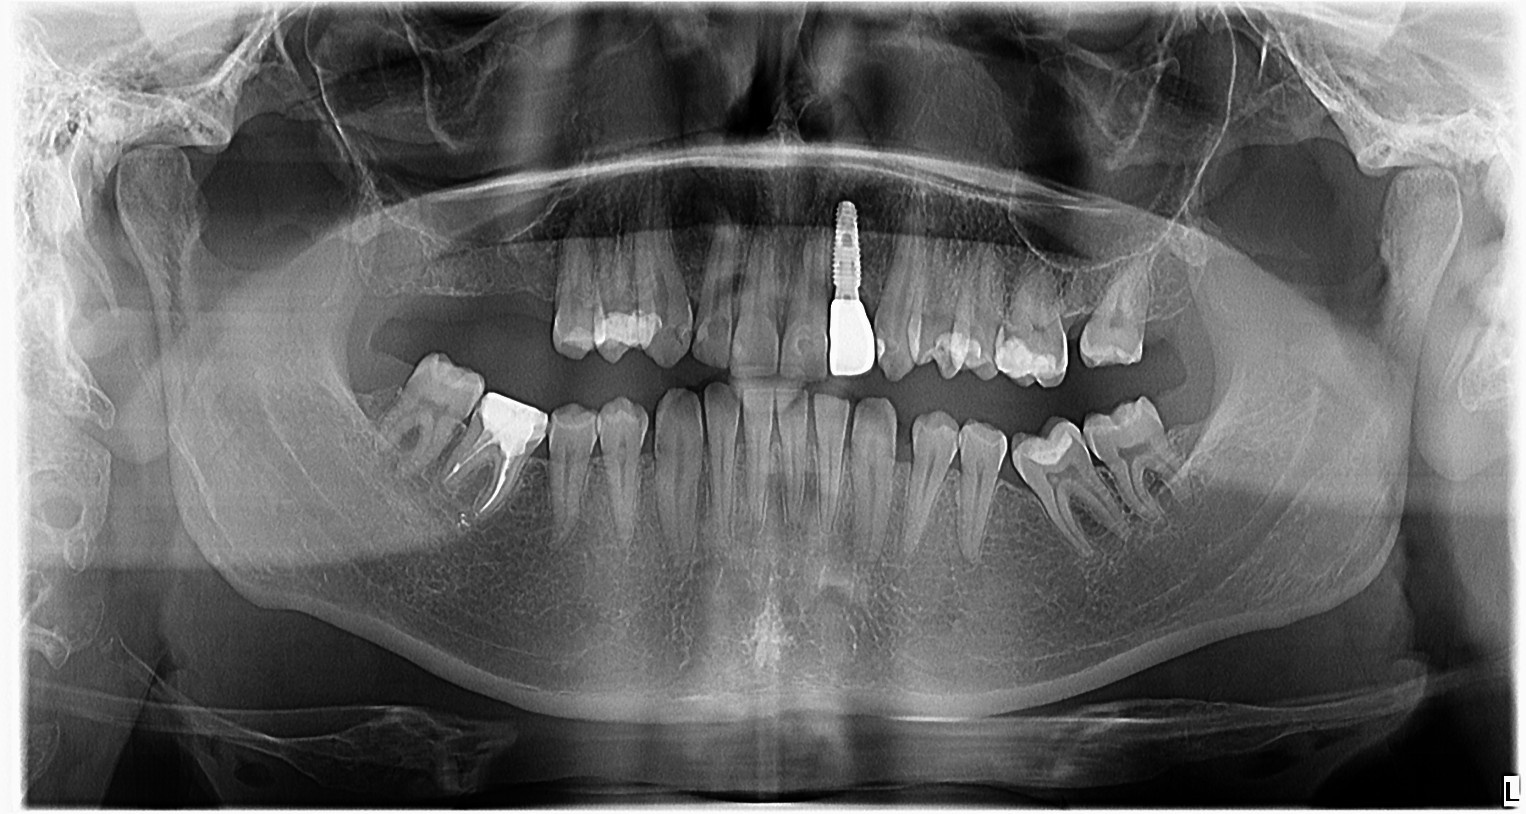BON: (980, 462, 1042, 513), (1057, 290, 1101, 343), (1079, 442, 1121, 493), (517, 433, 561, 479), (887, 433, 925, 480), (796, 416, 829, 464), (629, 427, 665, 468), (578, 432, 616, 469), (758, 415, 792, 455), (724, 420, 753, 457)
END: (431, 432, 520, 533)
IMP: (824, 187, 874, 302)
OBT: (475, 384, 555, 458), (590, 298, 665, 362), (985, 329, 1063, 389), (1007, 417, 1088, 471), (561, 316, 607, 362), (926, 328, 968, 376), (873, 333, 892, 370)
PRR: (824, 303, 882, 387)
